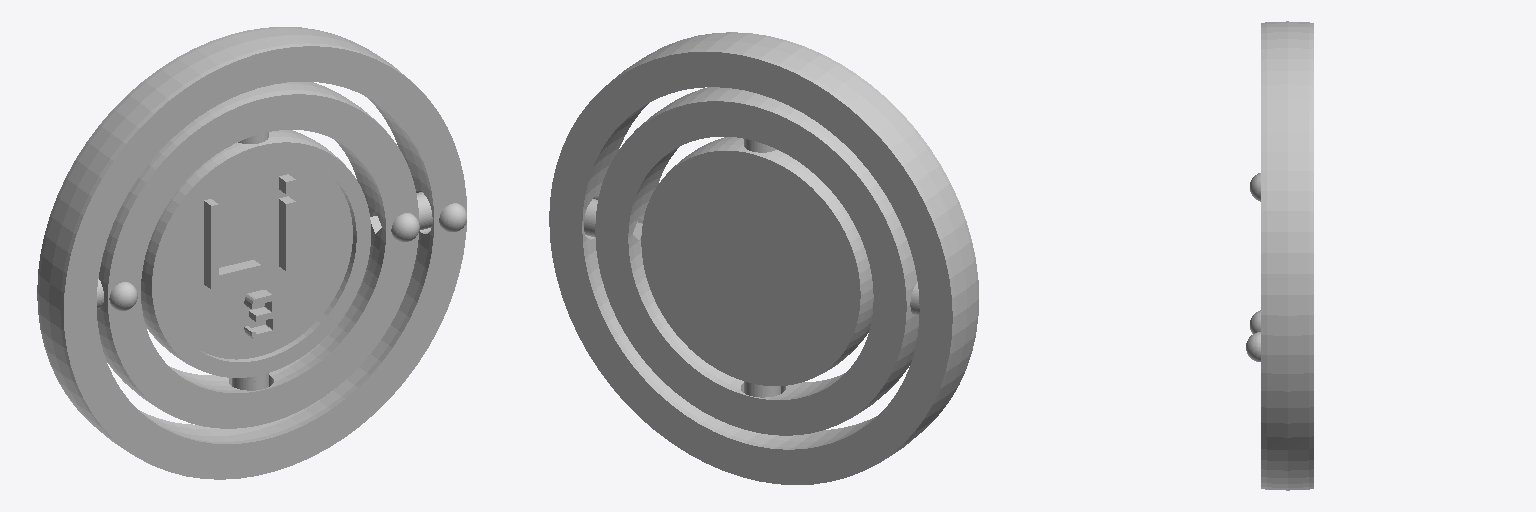
File: 003_-_Li_-_Lithium.obj
3 views of the same model, side by side, from view 1: azimuth 30°, elevation 25°; view 2: azimuth 150°, elevation 25°; view 3: azimuth 270°, elevation 25° (orthographic).
Visible parts, largest first — view 1: Object.3, Object.1, Object.2; view 2: Object.3, Object.1, Object.2; view 3: Object.3.
Boxes of the visible parts, x1=… form: Object.3: x1=37, y1=27, x2=466, y2=479; Object.1: x1=141, y1=130, x2=370, y2=390; Object.2: x1=97, y1=82, x2=432, y2=428; Object.3: x1=549, y1=32, x2=978, y2=484; Object.1: x1=641, y1=137, x2=873, y2=397; Object.2: x1=584, y1=87, x2=919, y2=435; Object.3: x1=1246, y1=21, x2=1313, y2=490.
Size of the model in its own units: 62 by 61.94 by 9.